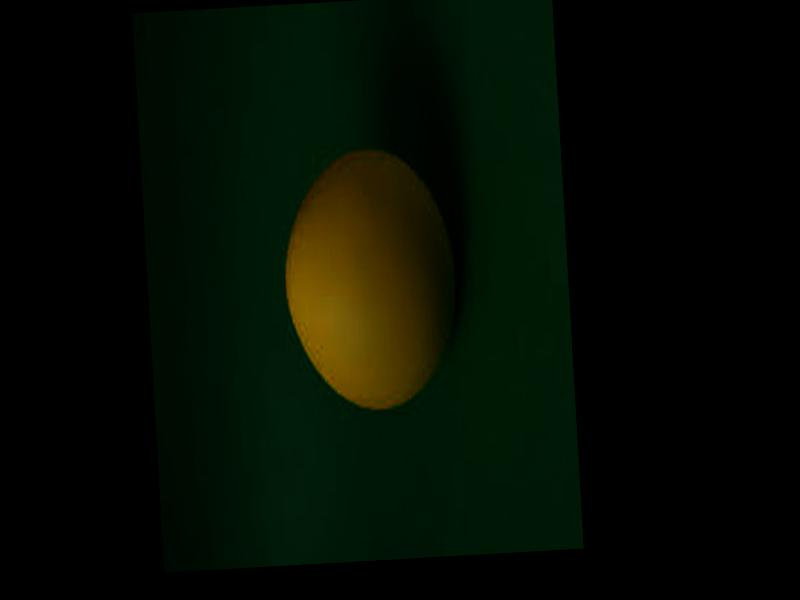Eggs: (277, 151, 464, 418)
